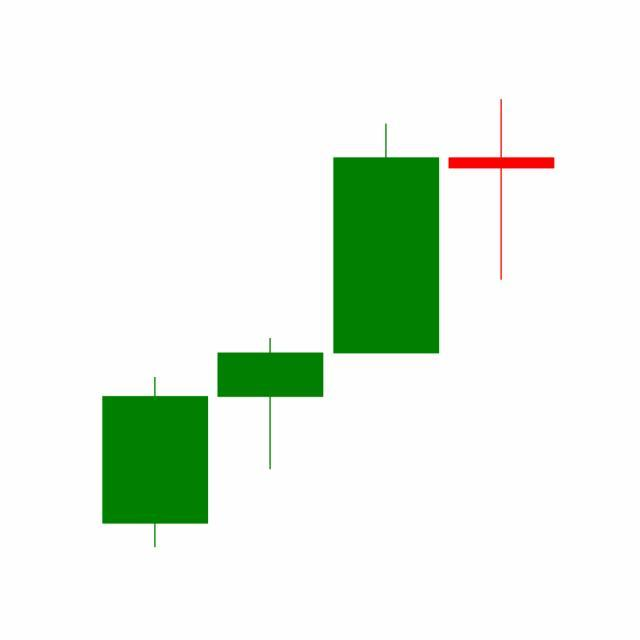Spinning Top: (444, 97, 560, 282)
